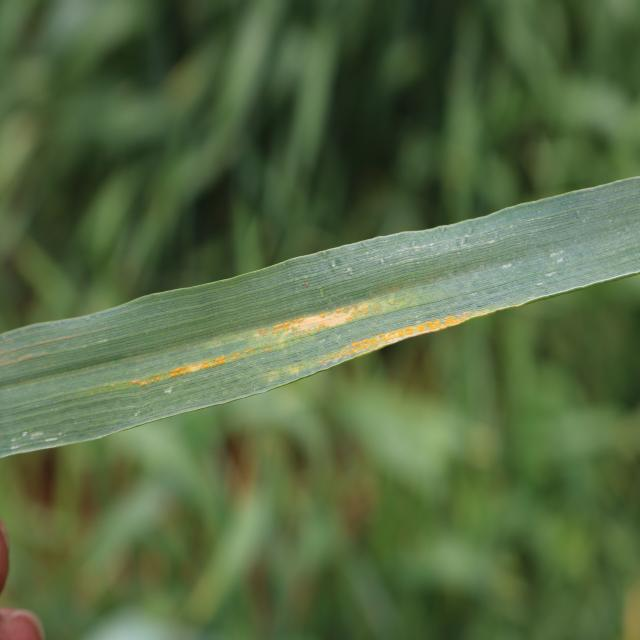Stripe Rust: (340, 304, 466, 366), (260, 298, 390, 343), (134, 338, 246, 388)
